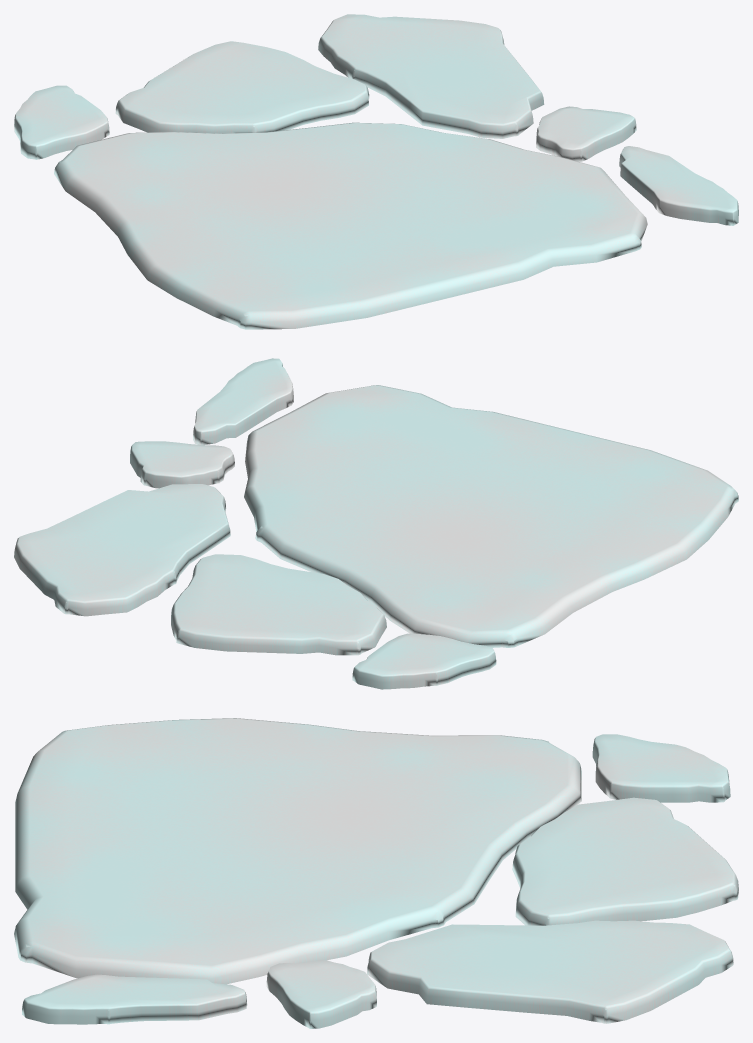
Rendered from SnowTrap_F.fbx.
3 views of the same model, one above another, from view 1: azimuth 30°, elevation 25°; view 2: azimuth 150°, elevation 25°; view 3: azimuth 270°, elevation 25° (orthographic). The views are drawn at different scales.
Visible parts, largest first — view 1: pasted__pasted__pasted__pasted__polySurface24; view 2: pasted__pasted__pasted__pasted__polySurface24; view 3: pasted__pasted__pasted__pasted__polySurface24.
Boxes of the visible parts, <box> form: pasted__pasted__pasted__pasted__polySurface24: <box>14,14,738,329</box>; pasted__pasted__pasted__pasted__polySurface24: <box>14,358,738,689</box>; pasted__pasted__pasted__pasted__polySurface24: <box>14,718,738,1028</box>.
Size of the model in its own units: 0.9543 by 0.024 by 0.9751.
